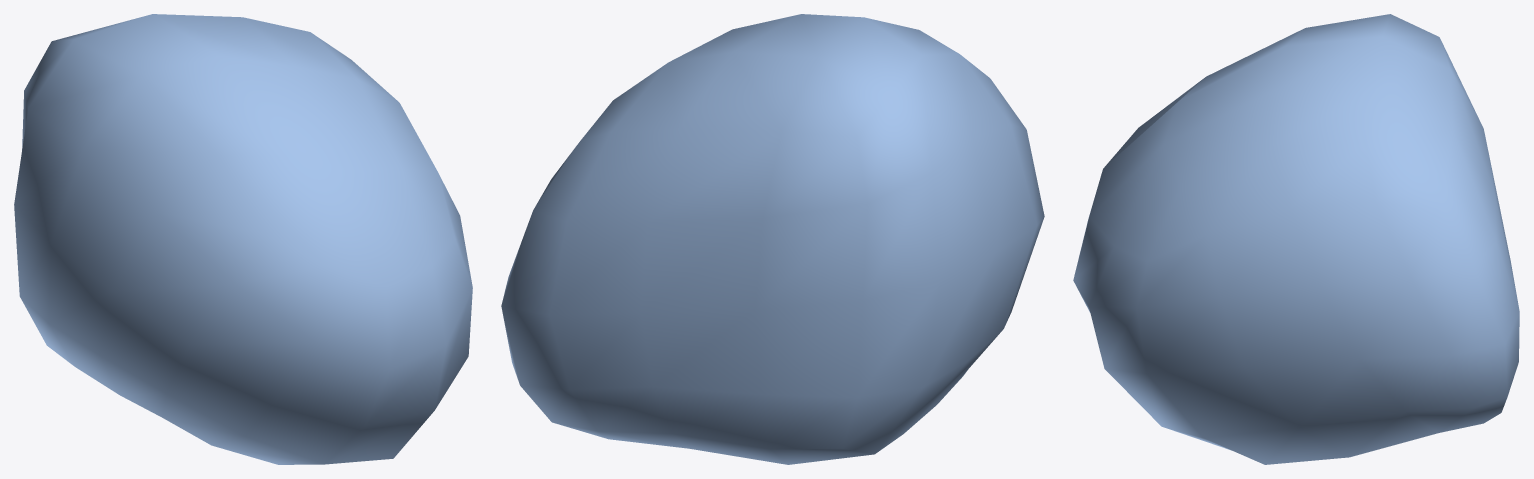
Rendered from Rock5.fbx.
The picture shows the model from 3 angles, left to right: view 1: azimuth 30°, elevation 25°; view 2: azimuth 150°, elevation 25°; view 3: azimuth 270°, elevation 25°; orthographic projection. The views are drawn at different scales.
Parts seen in each view (by area): view 1: Rock.005; view 2: Rock.005; view 3: Rock.005.
Part boxes in pixels (x1,y1,x2,y2): Rock.005: (14, 14, 472, 464); Rock.005: (501, 14, 1044, 464); Rock.005: (1073, 14, 1519, 464).
Size of the model in its own units: 396 by 412 by 449.
